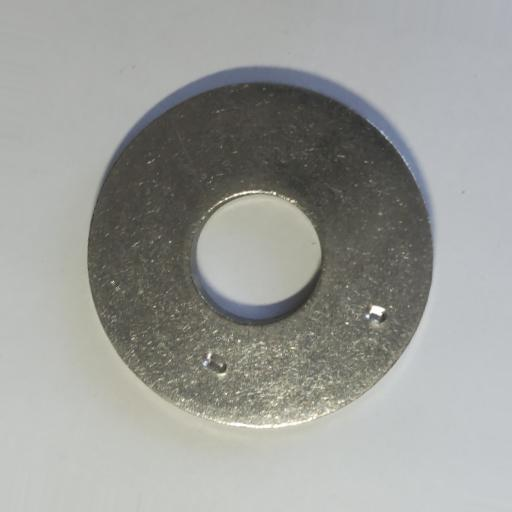circular_cavity: (201, 351, 228, 375), (364, 303, 387, 325)
